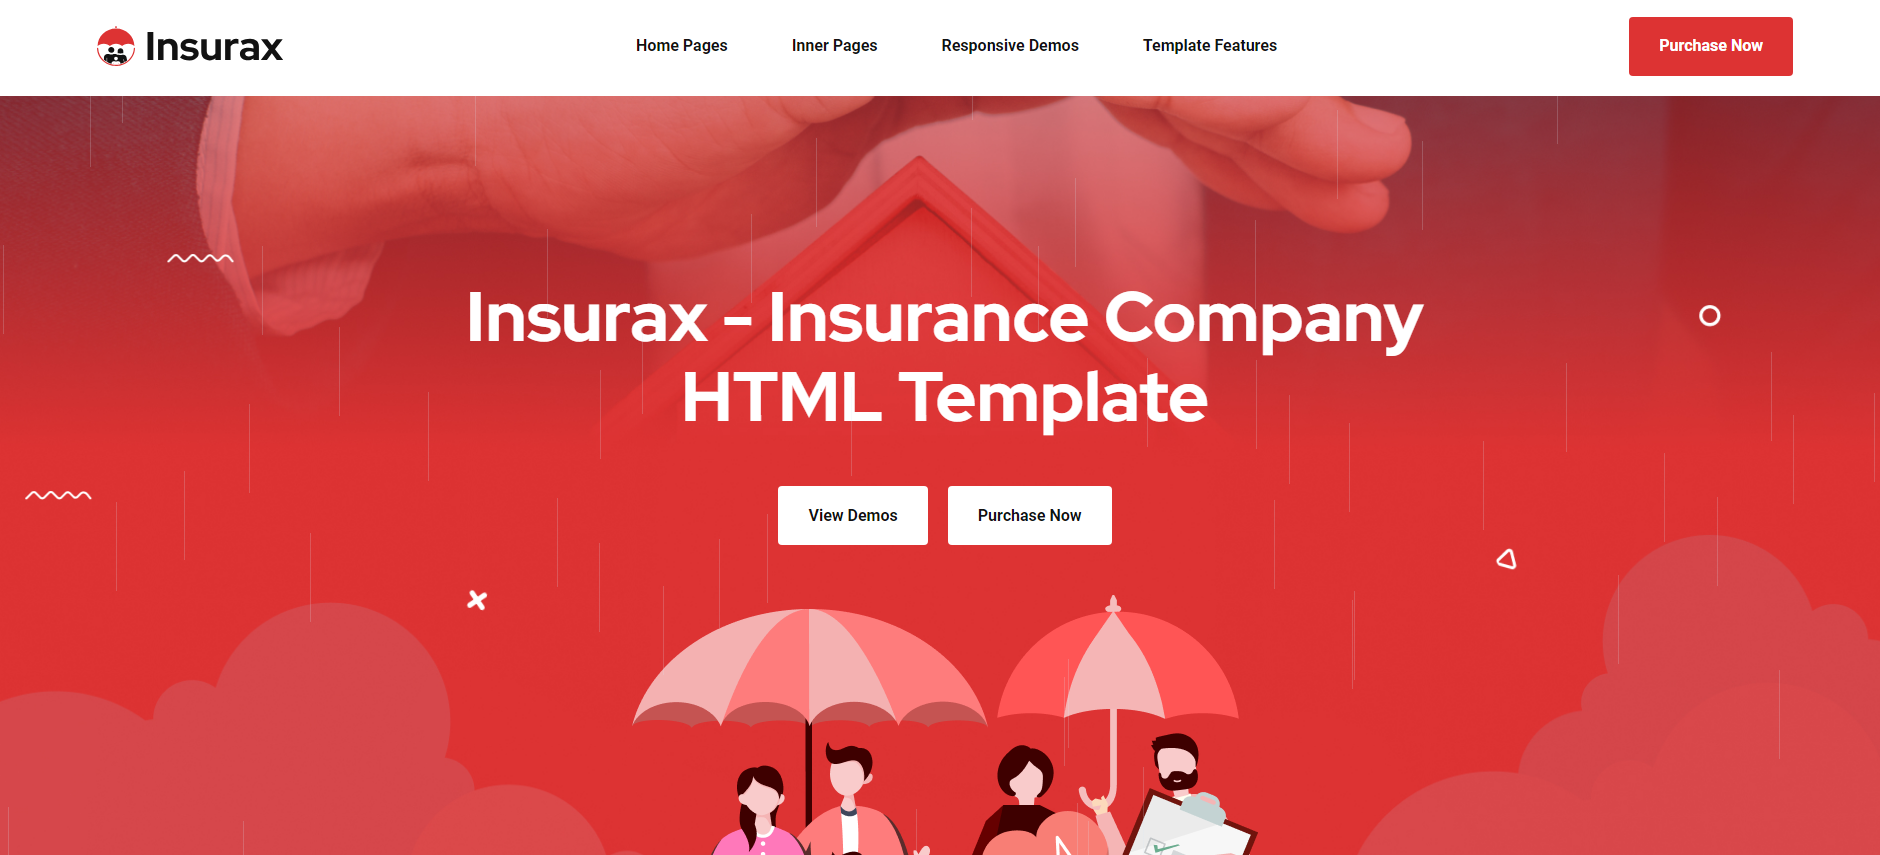menu-bar: (25, 5, 1832, 194)
